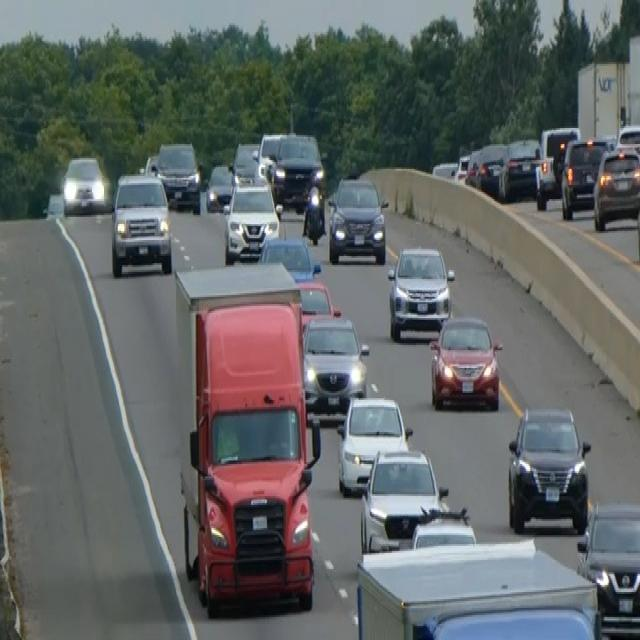car: (506, 404, 591, 534), (359, 444, 447, 553), (576, 498, 639, 638), (335, 393, 412, 496), (428, 313, 503, 411), (301, 311, 369, 411), (110, 169, 172, 277), (386, 244, 454, 342), (326, 172, 388, 265), (223, 178, 279, 261), (560, 133, 614, 219), (272, 130, 325, 212), (592, 142, 639, 231), (534, 124, 580, 208), (155, 138, 201, 212), (257, 233, 321, 283), (410, 503, 476, 549), (62, 153, 106, 215), (500, 137, 541, 199), (295, 278, 340, 332), (475, 142, 510, 198), (205, 162, 235, 212), (257, 130, 284, 180), (231, 141, 260, 183), (615, 121, 639, 167), (464, 146, 482, 187), (452, 151, 470, 181)
lorry: (173, 258, 321, 617), (355, 535, 603, 638)
motorcycle: (301, 182, 325, 246)
